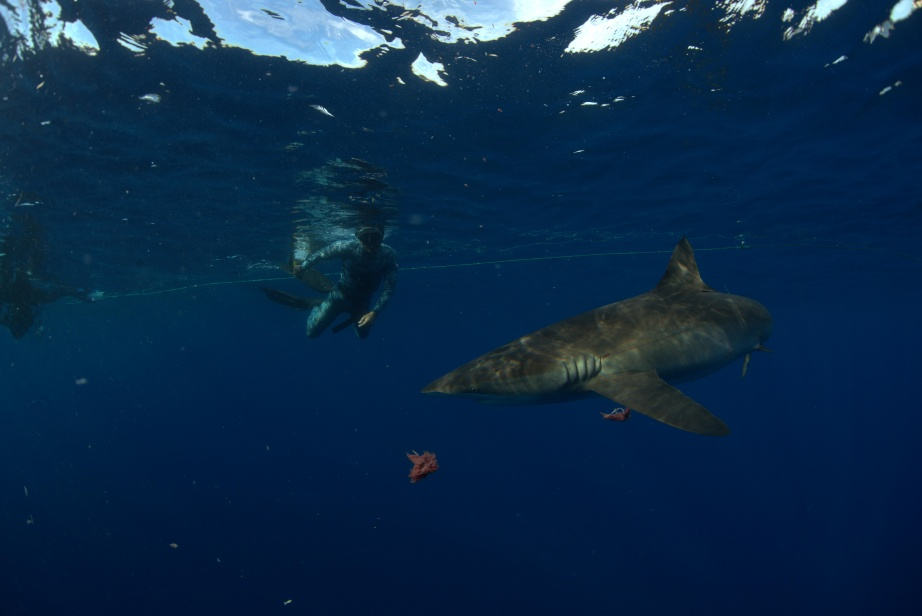Sedoso: (397, 235, 787, 465)
